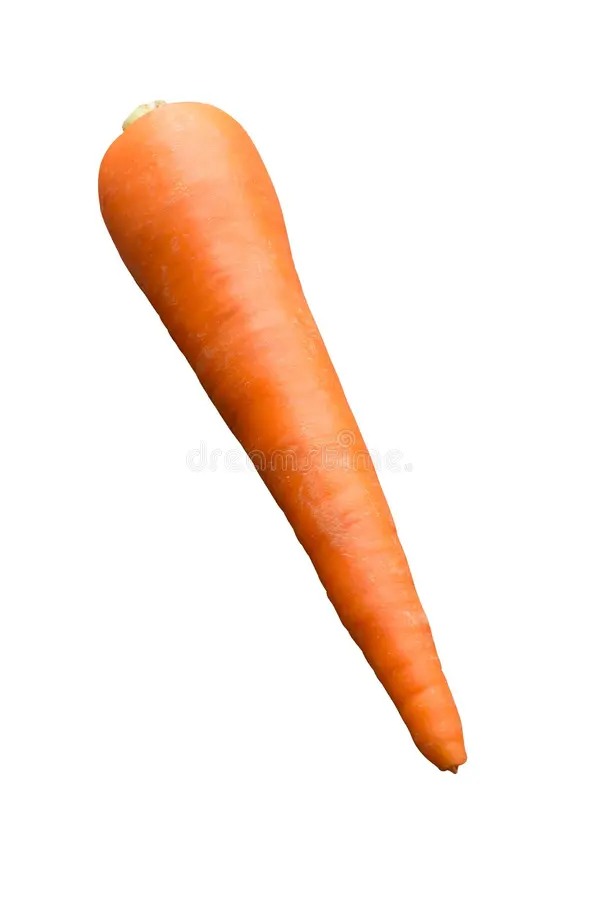carrot: (78, 77, 506, 817)
